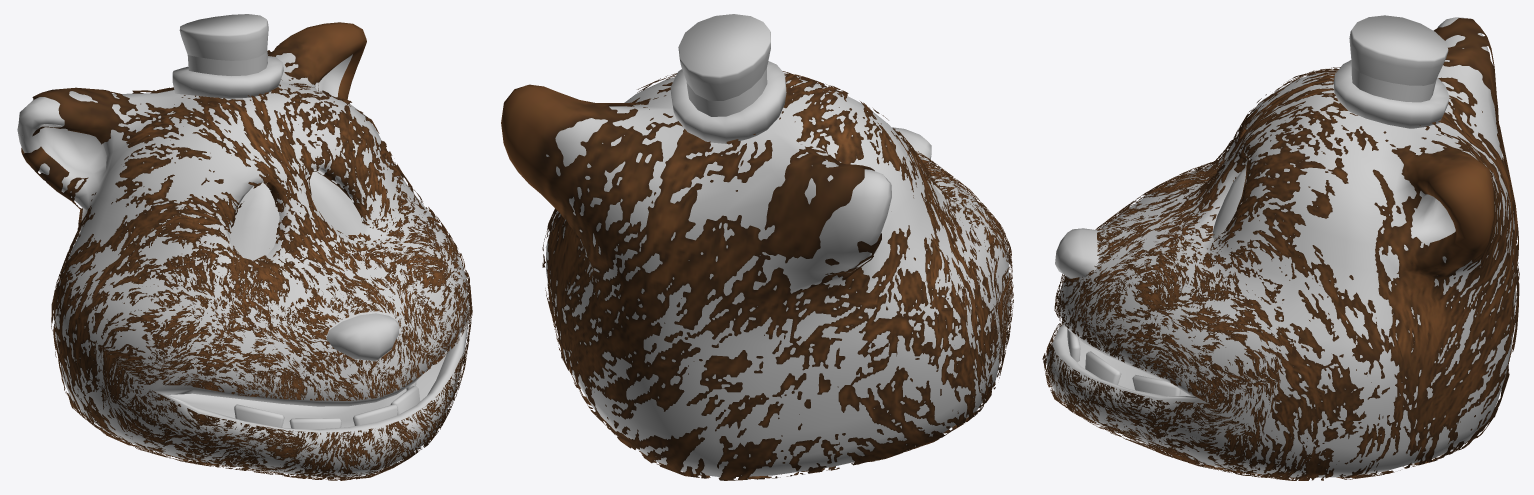
Rendered from Benny Head.fbx.
3 views of the same model, side by side, from view 1: azimuth 30°, elevation 25°; view 2: azimuth 150°, elevation 25°; view 3: azimuth 270°, elevation 25° (orthographic). The views are drawn at different scales.
Parts seen in each view (by area): view 1: Suit.001; view 2: Suit.001; view 3: Suit.001.
Boxes of the visible parts, box(x1,y1,x2,y2) form: Suit.001: box(17, 14, 472, 480); Suit.001: box(501, 14, 1013, 480); Suit.001: box(1042, 15, 1519, 480).
Size of the model in its own units: 135 by 128 by 139.
